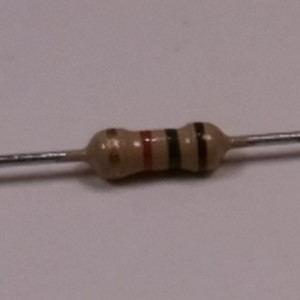brown_band: (191, 119, 212, 177)
gold_band: (103, 125, 128, 184)
green_band: (163, 124, 185, 175)
red_band: (137, 126, 157, 176)
